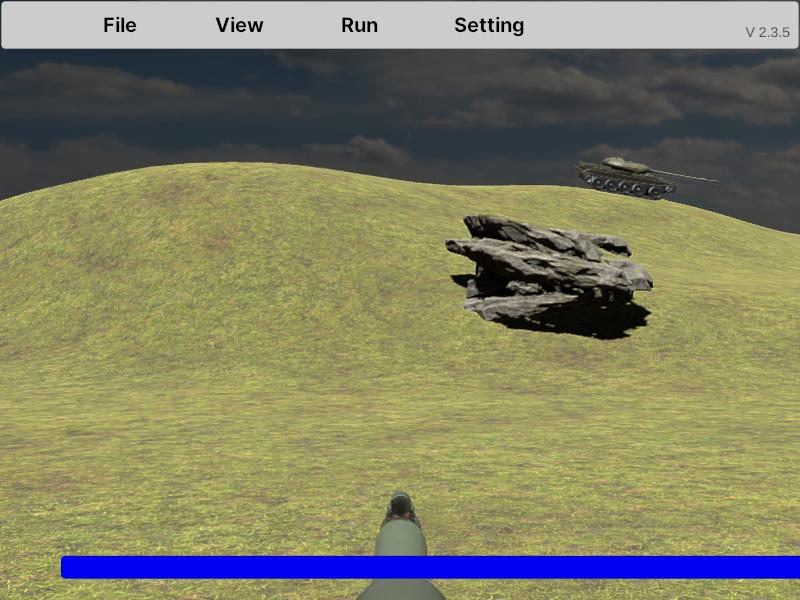Tank: (577, 156, 720, 201)
